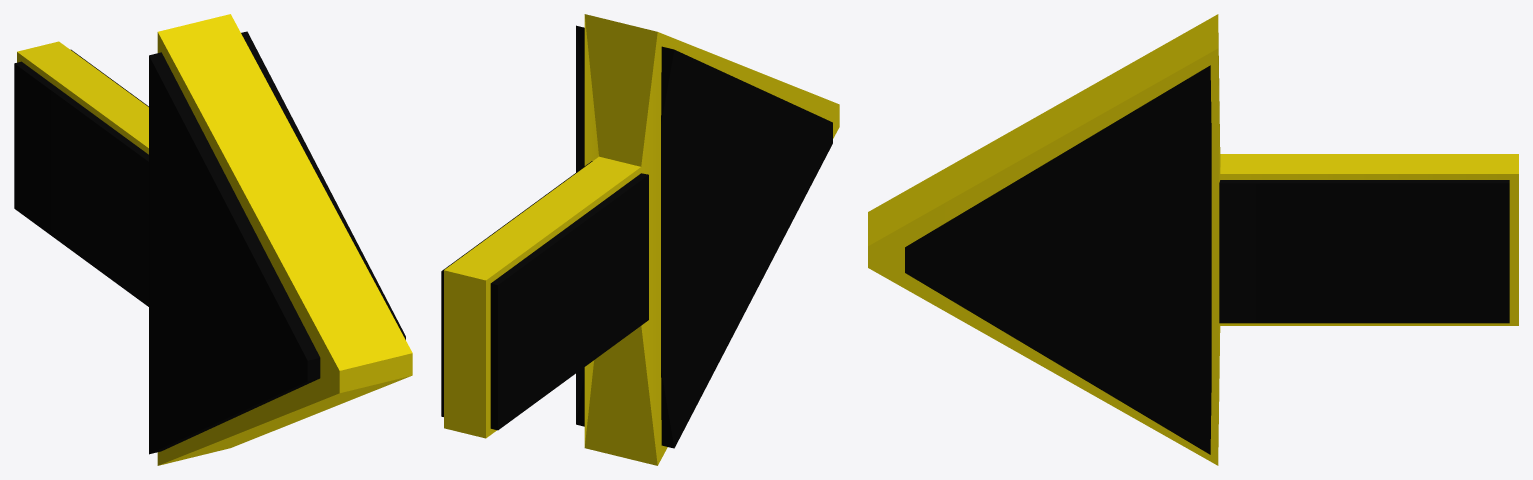
File: ArrowPointer.fbx
3 renders of one model, left to right at view 1: azimuth 30°, elevation 25°; view 2: azimuth 150°, elevation 25°; view 3: azimuth 270°, elevation 25°, orthographic. The views are drawn at different scales.
Parts seen in each view (by area): view 1: ArrowPointer, pCube2; view 2: ArrowPointer, pCube2; view 3: ArrowPointer, pCube2.
Part boxes in pixels (<box>): ArrowPointer: <box>14,31,405,454</box>; pCube2: <box>17,14,412,465</box>; ArrowPointer: <box>441,25,832,448</box>; pCube2: <box>444,14,839,465</box>; ArrowPointer: <box>905,65,1509,454</box>; pCube2: <box>868,14,1518,465</box>.
Bounding box in the file's own units: 1 × 4.21 × 5.95.
